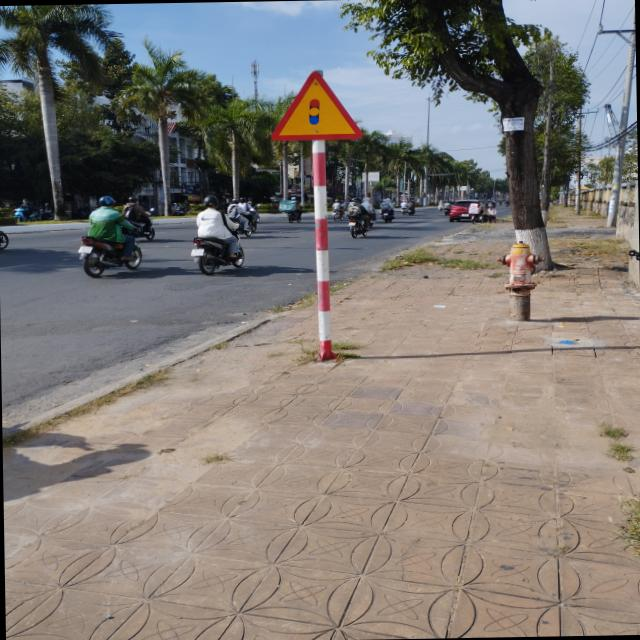Duong_Co_Go_Giam_Toc: (270, 70, 362, 140)
